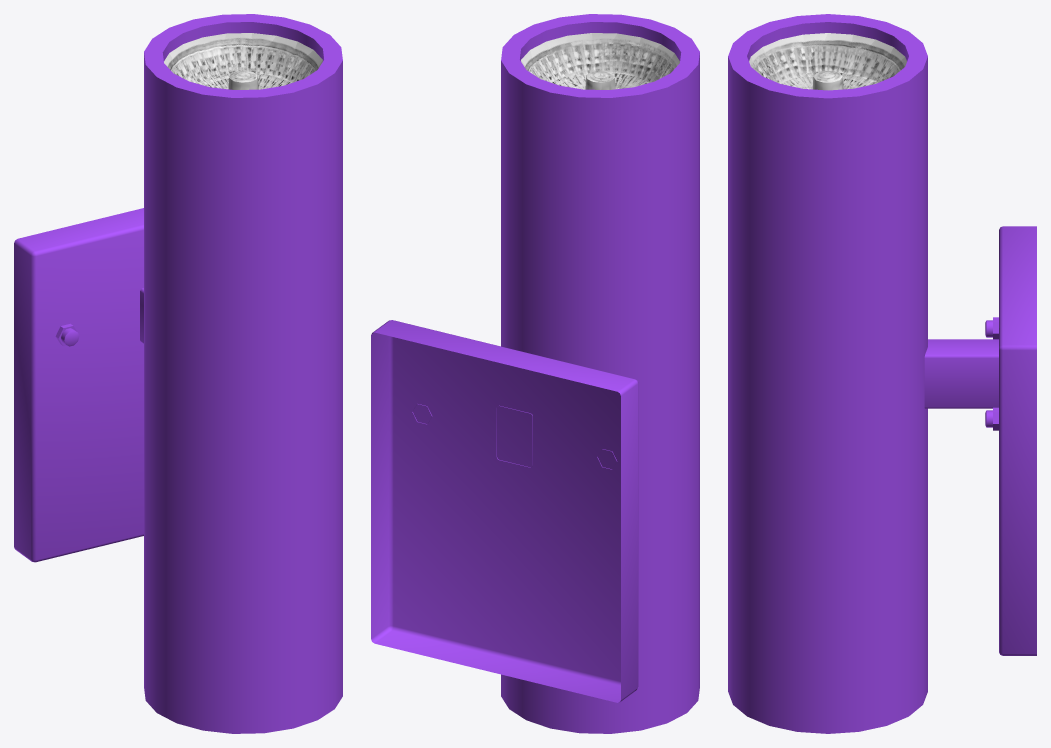
Rendered from LightWall04_2.FBX.
3 renders of one model, left to right at view 1: azimuth 30°, elevation 25°; view 2: azimuth 150°, elevation 25°; view 3: azimuth 270°, elevation 25°, orthographic.
Visible parts, largest first — view 1: LightWall04_2; view 2: LightWall04_2; view 3: LightWall04_2.
Part boxes in pixels (bbox=[...]): LightWall04_2: bbox=[14, 14, 342, 733]; LightWall04_2: bbox=[371, 14, 699, 733]; LightWall04_2: bbox=[728, 14, 1036, 733].
Size of the model in its own units: 13.1 by 31.85 by 14.02.
